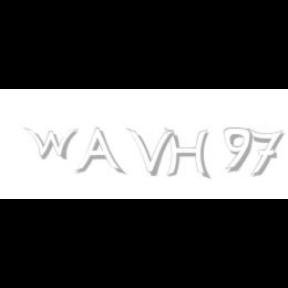7: (248, 128, 284, 178)
9: (224, 128, 252, 172)
A: (75, 128, 123, 176)
H: (164, 128, 210, 180)
V: (127, 128, 175, 176)
w: (24, 128, 83, 160)
